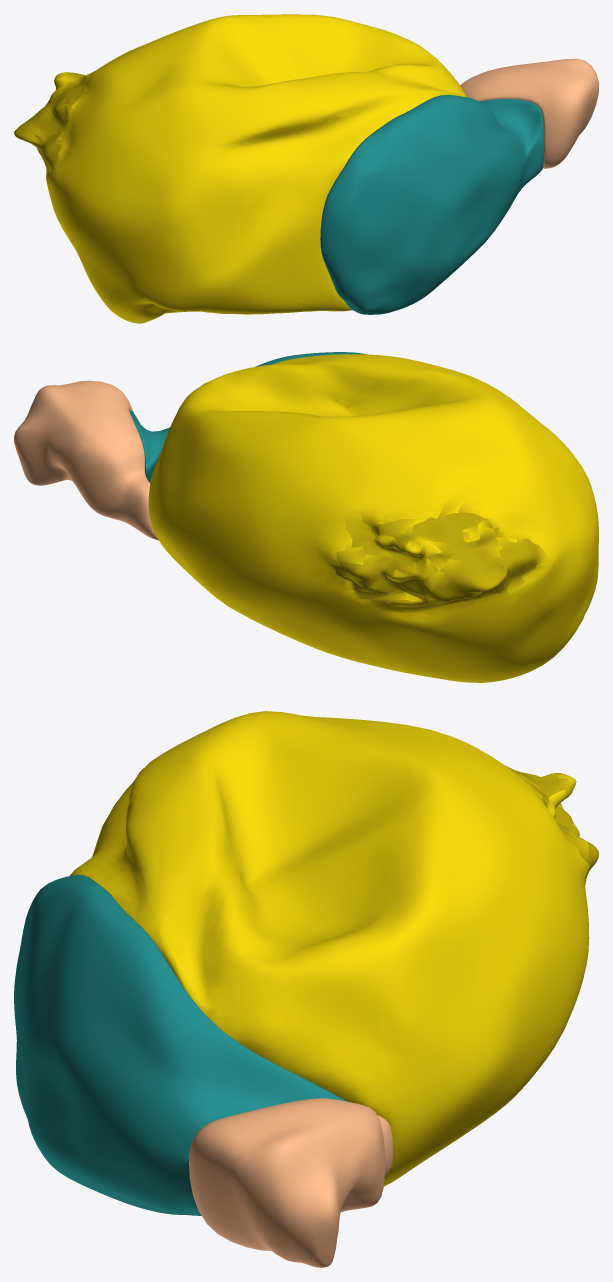
The picture shows the model from 3 angles, top to bottom: view 1: azimuth 30°, elevation 25°; view 2: azimuth 150°, elevation 25°; view 3: azimuth 270°, elevation 25°; orthographic projection. The views are drawn at different scales.
Visible parts, largest first — view 1: Yolk sac wall, Amnion wall, Connecting stalk; view 2: Yolk sac wall, Connecting stalk, Amnion wall; view 3: Yolk sac wall, Amnion wall, Connecting stalk.
Boxes of the visible parts, x1,y1,x2,y2 form: Yolk sac wall: (14,14,466,323); Amnion wall: (320,95,544,314); Connecting stalk: (460,58,598,168); Yolk sac wall: (148,354,598,682); Connecting stalk: (14,380,158,540); Amnion wall: (129,352,367,482); Yolk sac wall: (69,711,598,1186); Amnion wall: (14,875,347,1215); Connecting stalk: (189,1098,393,1267).
Bounding box in the file's own units: 29.59 × 13.45 × 18.42.
